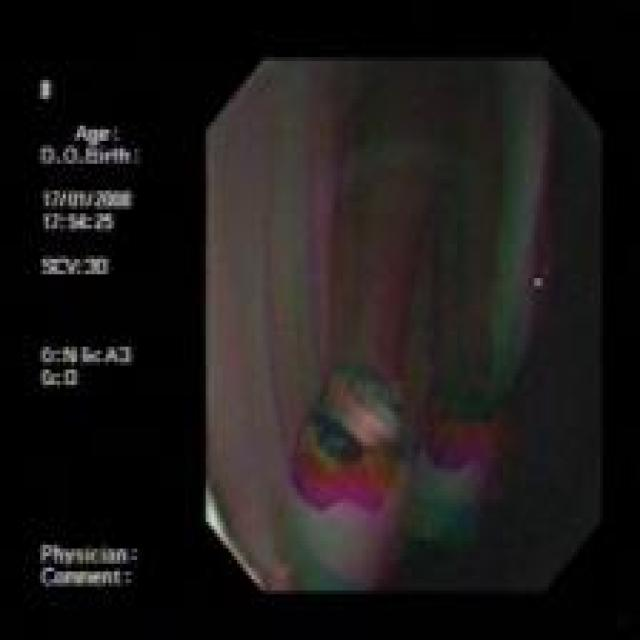color misalignment: (208, 59, 601, 590), (35, 77, 154, 597)
